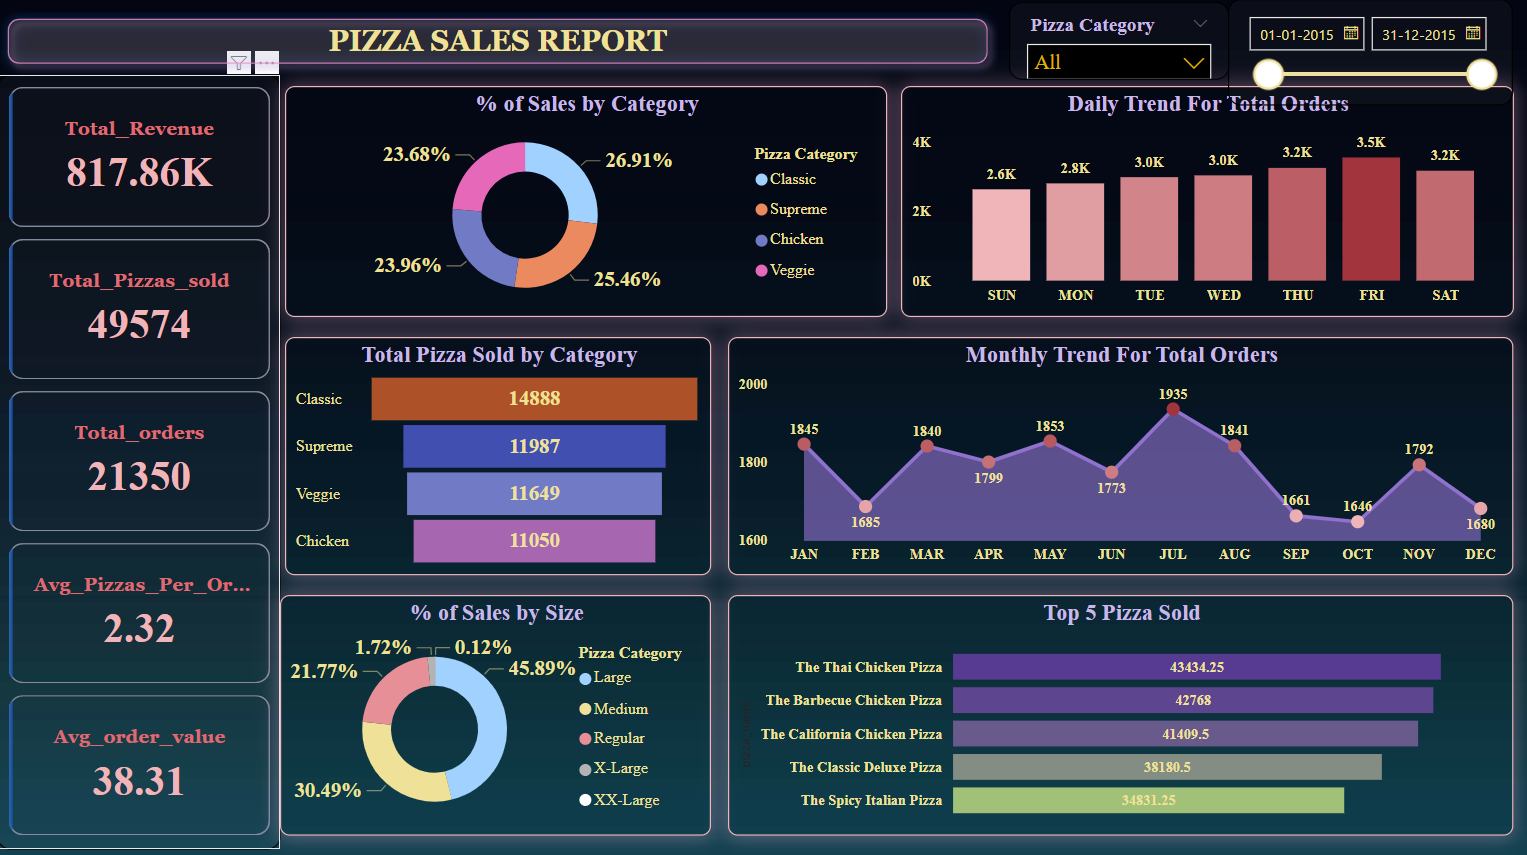

The dashboard page shown, as its layout file describes it:
{"tool":"powerbi","page":{"name":"Pizza_Sales","canvas":[1280,720],"ordinal":0},"visuals":[{"type":"cardVisual","fields":{"Data":["pizza_sales.Total_Revenue","pizza_sales.Total_Pizzas_sold","pizza_sales.Total_orders","pizza_sales.Avg_Pizzas_Per_Orders","pizza_sales.Avg_order_value"]},"box":[0,63.2,236.6,646.7],"z":0},{"type":"shape","box":[0,7.7,836.4,55.6],"z":1000},{"type":"clusteredColumnChart","title":"Daily Trend For Total Orders","fields":{"Category":["pizza_sales.Order Day"],"Y":["pizza_sales.Total_orders"]},"box":[755,72.8,511.6,192.6],"z":2000},{"type":"areaChart","title":"Monthly Trend For Total Orders","fields":{"Category":["pizza_sales.Order Month"],"Y":["pizza_sales.Total_orders"]},"box":[610.3,282.6,656.3,199.3],"z":3000},{"type":"donutChart","title":"% of Sales by Category","fields":{"Y":["pizza_sales.Total_Revenue"],"Category":["pizza_sales.pizza_category"]},"box":[240.5,72.8,503,192.6],"z":4000},{"type":"donutChart","title":"% of Sales by Size","fields":{"Y":["pizza_sales.Total_Revenue"],"Category":["pizza_sales.pizza_size"]},"box":[236.6,498.2,360.2,201.2],"z":5000},{"type":"funnel","title":"Total Pizza Sold by Category","fields":{"Category":["pizza_sales.pizza_category"],"Y":["pizza_sales.Total_Pizzas_sold"]},"box":[240.5,282.6,356.4,199.3],"z":6000},{"type":"clusteredBarChart","title":"Top 5 Pizza Sold","fields":{"Y":["pizza_sales.Total_Revenue"],"Category":["pizza_sales.pizza_name"]},"box":[610.3,498.2,656.3,201.2],"z":7000},{"type":"slicer","fields":{"Values":["pizza_sales.pizza_category"]},"box":[845,2.9,184,65.1],"z":8000},{"type":"slicer","fields":{"Values":["pizza_sales.order_date"]},"box":[1028.6,0,237.6,88.7],"z":9000}]}

Visuals, with their boxes in screenshot pixels (x1, y1, x2, y2), scaled from the page's 1280x720 canvas onto the 1527x855 screenshot:
cardVisual - pizza_sales.Total_Revenue x pizza_sales.Total_Pizzas_sold: [0,75,282,843]
shape: [0,9,998,75]
"Daily Trend For Total Orders" clusteredColumnChart: [901,86,1511,315]
"Monthly Trend For Total Orders" areaChart: [728,336,1511,572]
"% of Sales by Category" donutChart: [287,86,887,315]
"% of Sales by Size" donutChart: [282,592,712,831]
"Total Pizza Sold by Category" funnel: [287,336,712,572]
"Top 5 Pizza Sold" clusteredBarChart: [728,592,1511,831]
slicer - pizza_sales.pizza_category: [1008,3,1228,81]
slicer - pizza_sales.order_date: [1227,0,1511,105]
